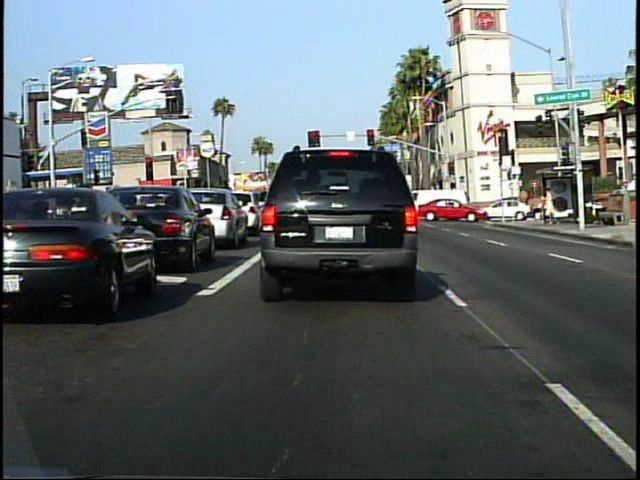person: (540, 182, 558, 227)
